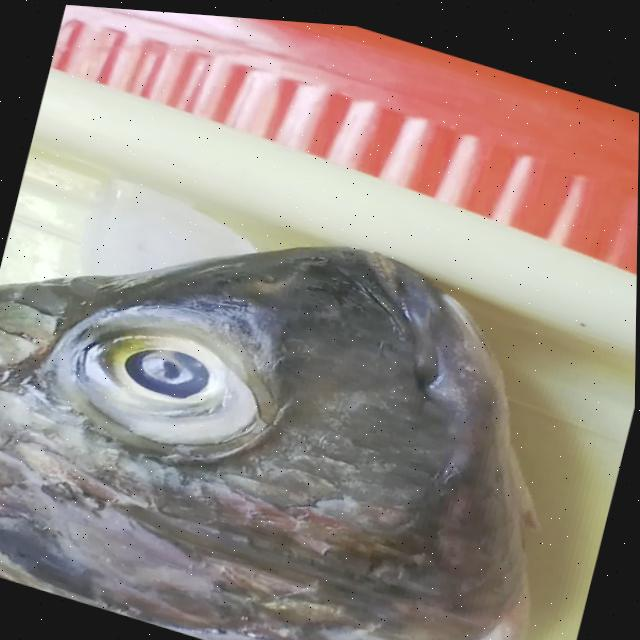Fresh: (31, 215, 374, 493)
